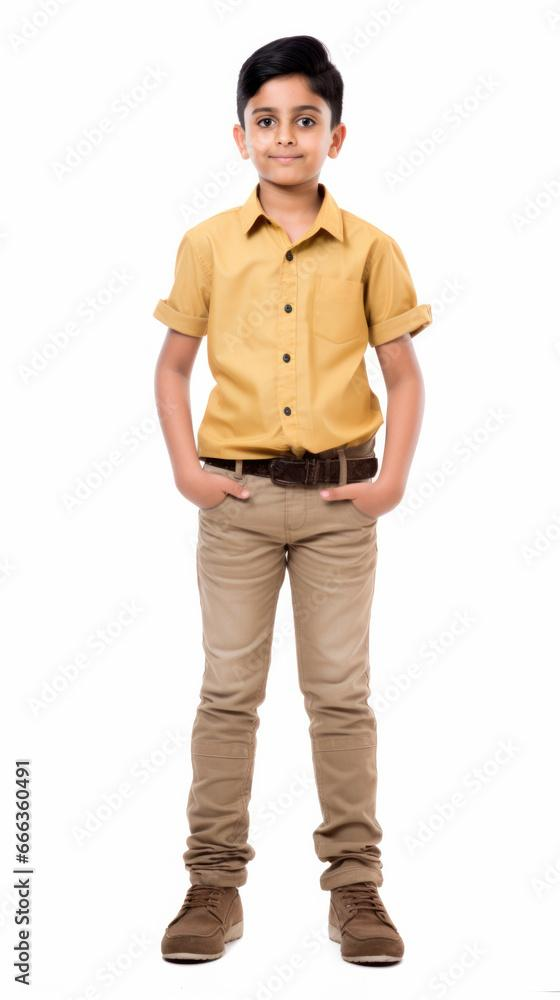Human: (81, 11, 494, 970)
